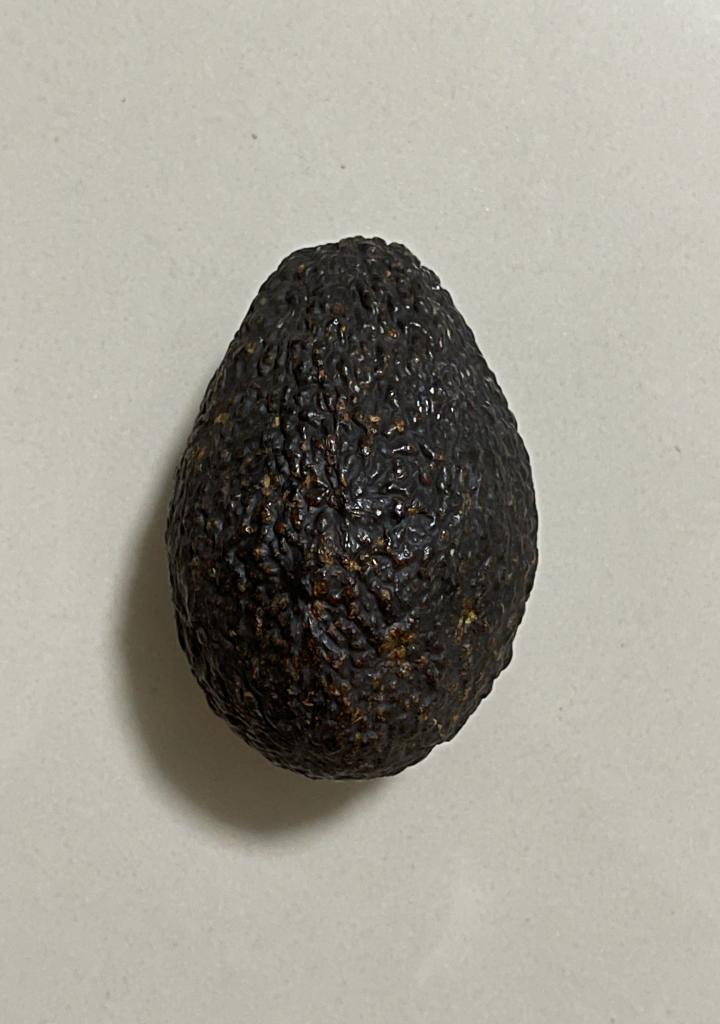Level2: (157, 221, 548, 791)
